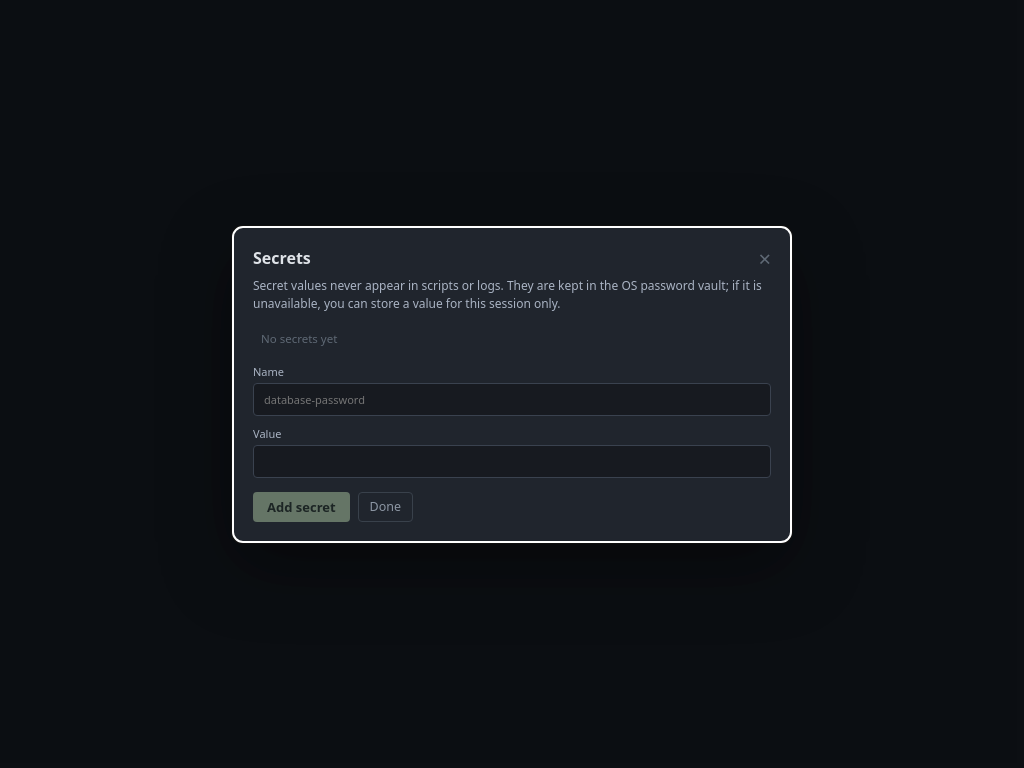
offers an explicit session-only save when the vault fails
The width and height of the screenshot is (1024, 768).
Later steps or results of the test are not shown.
Type "token" into the field labelled "Name" at (512, 399), box x1=253 y1=382 x2=771 y2=416
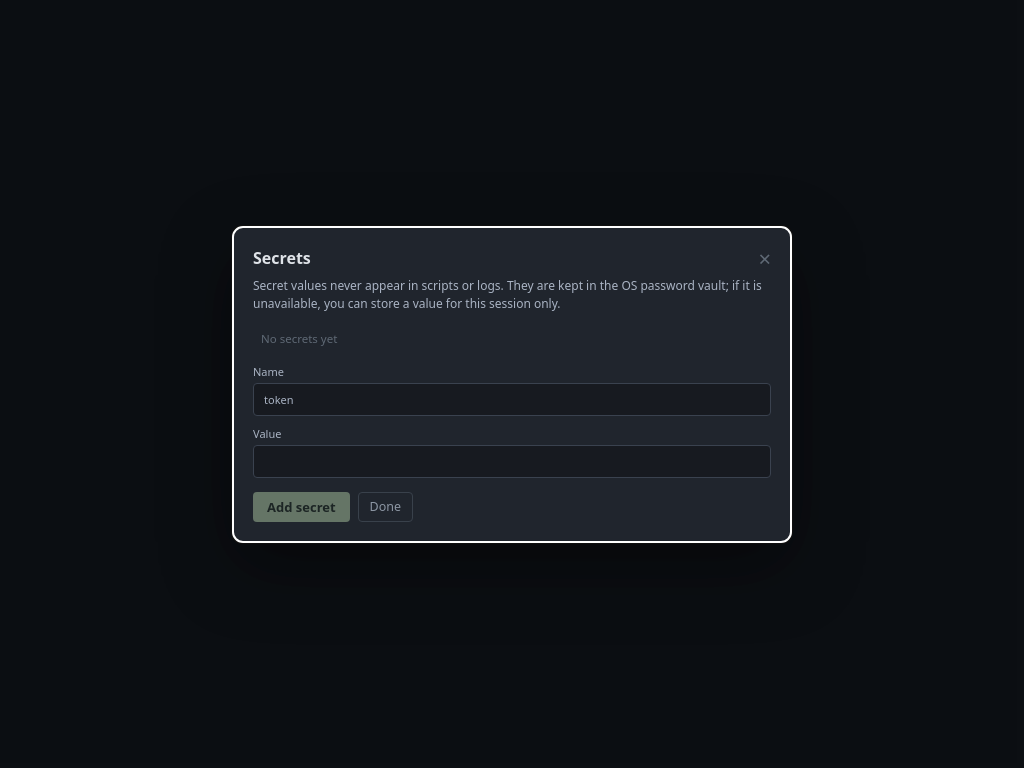
Type "value" into the password field labelled "Value" at (512, 461), box x1=253 y1=444 x2=771 y2=478
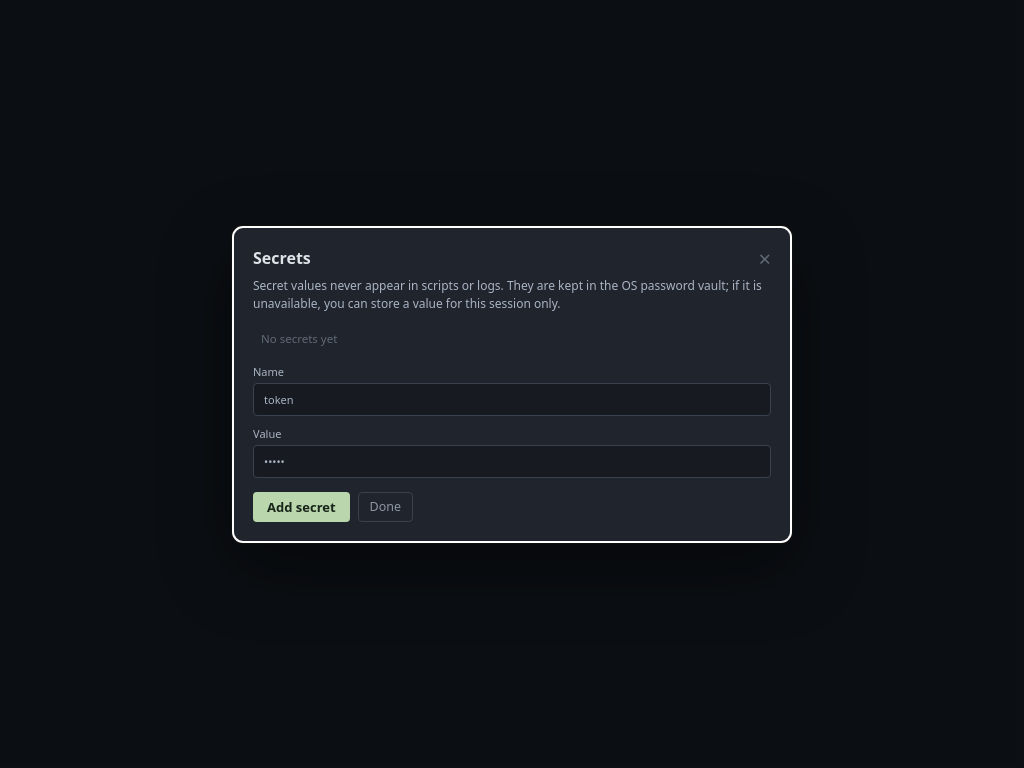
Click the button "Add secret" at (301, 506), box x1=253 y1=492 x2=350 y2=522
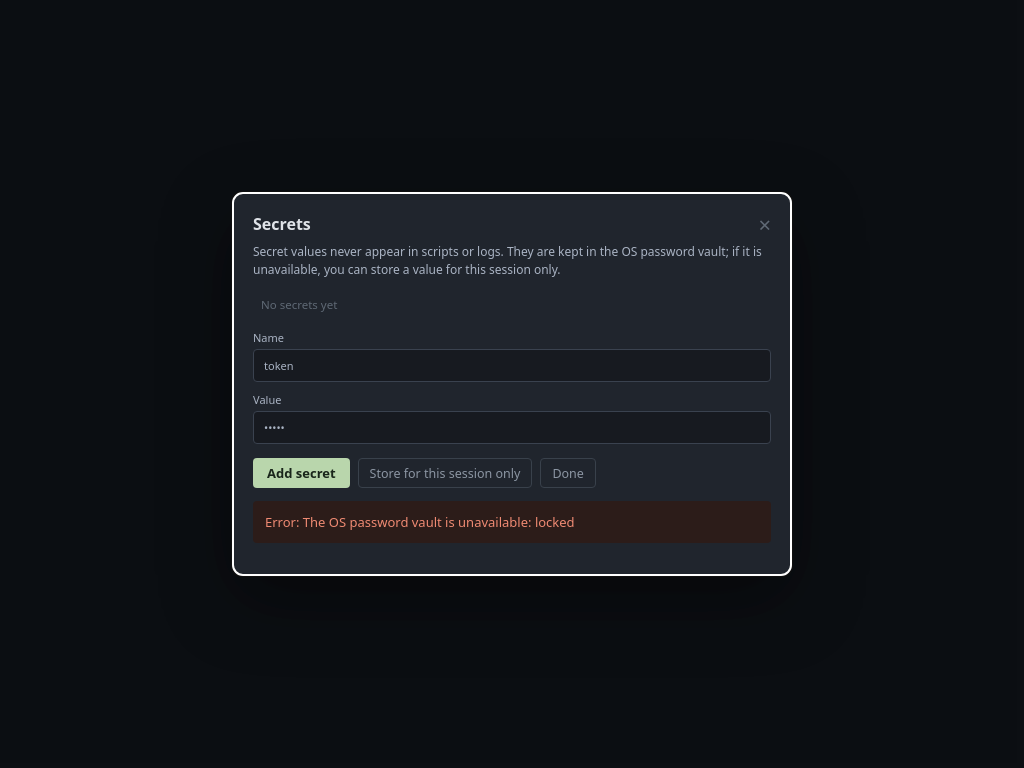
Now the message shows "locked", box x1=265 y1=513 x2=575 y2=531
